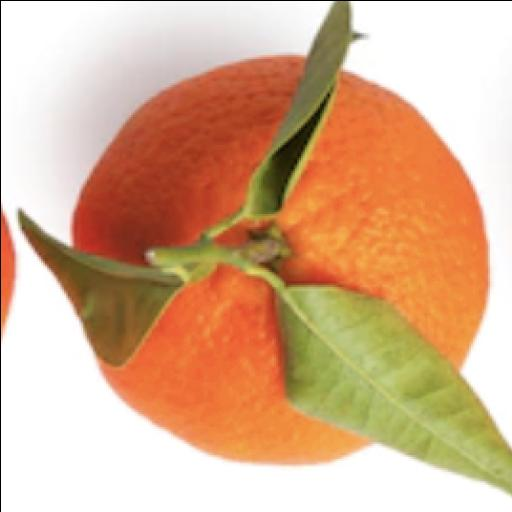orange: (277, 73, 488, 367), (1, 213, 14, 333)
